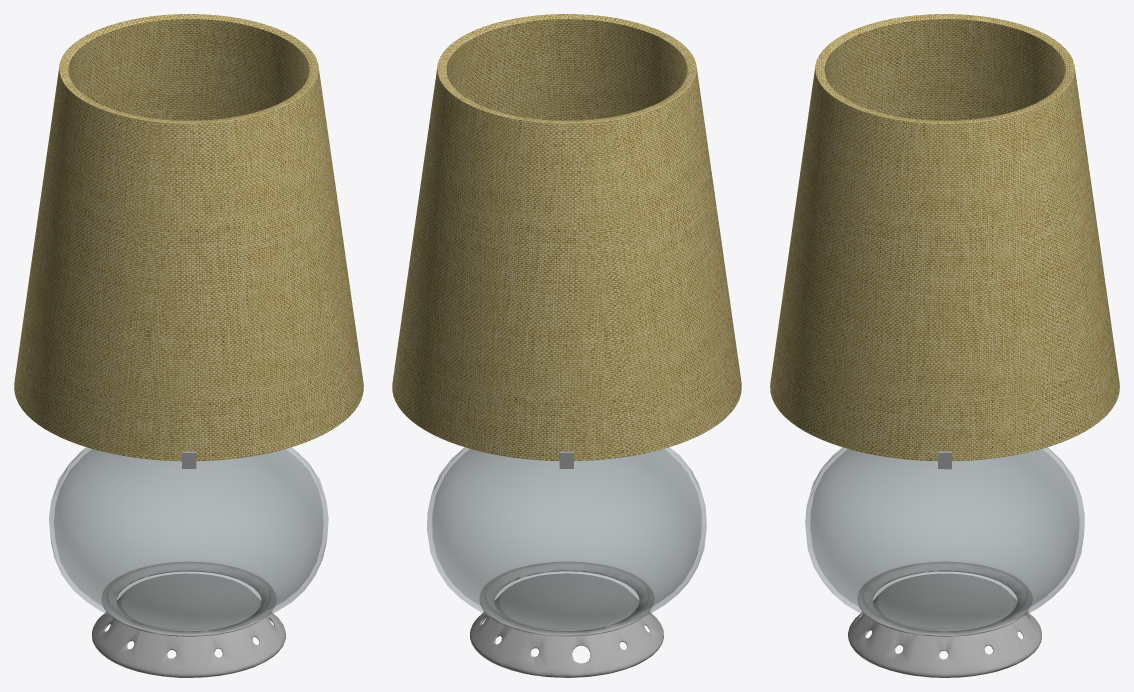
File: fontana-table-lamp.glb
3 renders of one model, left to right at view 1: azimuth 30°, elevation 25°; view 2: azimuth 150°, elevation 25°; view 3: azimuth 270°, elevation 25°, orthographic.
Parts seen in each view (by area): view 1: subscattering, Line001, Group45966, Solido2; view 2: subscattering, Line001, Group45966, Solido2; view 3: subscattering, Line001, Group45966, Solido2.
Boxes of the visible parts, x1,y1,x2,y2 form: subscattering: (14, 14, 363, 461); Line001: (49, 447, 328, 633); Group45966: (92, 573, 285, 677); Solido2: (102, 562, 276, 636); subscattering: (392, 14, 741, 460); Line001: (427, 447, 706, 633); Group45966: (470, 573, 663, 677); Solido2: (480, 562, 654, 636); subscattering: (770, 14, 1119, 461); Line001: (805, 447, 1084, 633); Group45966: (848, 573, 1041, 677); Solido2: (857, 562, 1032, 636).
Size of the model in its own units: 0.2 by 0.3483 by 0.1939.
Materials: 6 (2 with a texture image).
